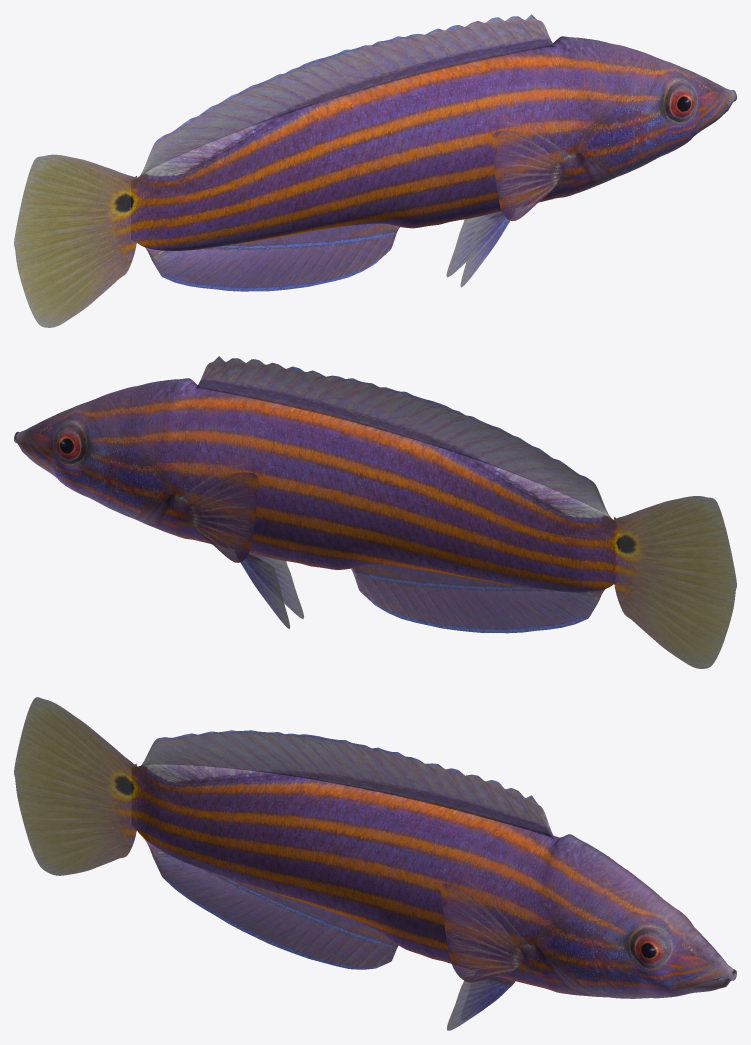
Rendered from hexataenia-bTXmWiTF.glb.
The picture shows the model from 3 angles, top to bottom: view 1: azimuth 30°, elevation 25°; view 2: azimuth 150°, elevation 25°; view 3: azimuth 330°, elevation 25°; orthographic projection.
Visible parts, largest first — view 1: hexataenia__body, hexataenia__fin_0, hexataenia__fin_1, hexataenia__fin_2, hexataenia__pectoral_1, hexataenia__gill_1, hexataenia__pelvic_1, hexataenia__pelvic_-1, hexataenia__eye_1; view 2: hexataenia__body, hexataenia__fin_0, hexataenia__fin_1, hexataenia__fin_2, hexataenia__pectoral_-1, hexataenia__gill_-1, hexataenia__pelvic_-1, hexataenia__pelvic_1, hexataenia__eye_-1; view 3: hexataenia__body, hexataenia__fin_0, hexataenia__fin_1, hexataenia__fin_2, hexataenia__pectoral_1, hexataenia__gill_1, hexataenia__pelvic_1, hexataenia__eye_1.
Part boxes in pixels (box(x1,y1,x2,y2)): hexataenia__body: box(136, 36, 736, 250); hexataenia__fin_0: box(14, 154, 137, 327); hexataenia__fin_1: box(138, 14, 555, 178); hexataenia__fin_2: box(144, 223, 399, 291); hexataenia__pectoral_1: box(492, 130, 561, 221); hexataenia__gill_1: box(579, 77, 642, 184); hexataenia__pelvic_1: box(460, 212, 509, 287); hexataenia__pelvic_-1: box(446, 211, 501, 277); hexataenia__eye_1: box(666, 79, 694, 117); hexataenia__body: box(14, 378, 619, 592); hexataenia__fin_0: box(614, 496, 736, 668); hexataenia__fin_1: box(196, 356, 611, 518); hexataenia__fin_2: box(351, 565, 604, 633); hexataenia__pectoral_-1: box(189, 472, 258, 562); hexataenia__gill_-1: box(108, 419, 171, 526); hexataenia__pelvic_-1: box(240, 554, 290, 628); hexataenia__pelvic_1: box(249, 553, 303, 618); hexataenia__eye_-1: box(56, 421, 84, 459); hexataenia__body: box(136, 764, 736, 998); hexataenia__fin_0: box(14, 697, 137, 875); hexataenia__fin_1: box(138, 730, 555, 839); hexataenia__fin_2: box(141, 835, 398, 969); hexataenia__pectoral_1: box(440, 883, 523, 982); hexataenia__gill_1: box(547, 887, 603, 990); hexataenia__pelvic_1: box(447, 976, 512, 1030); hexataenia__eye_1: box(631, 925, 666, 963).
Bounding box in the file's own units: 1.2 × 0.4142 × 0.1488.
5 materials, 5 textured.
